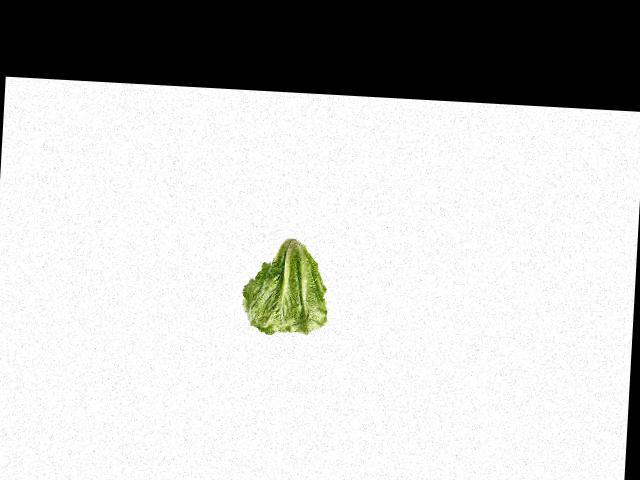lettuce: (237, 230, 328, 339)
